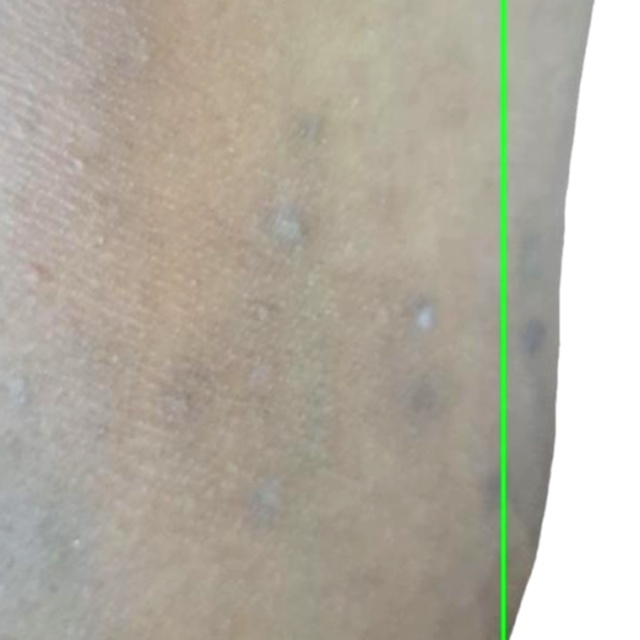Scabies: (503, 0, 639, 639)
